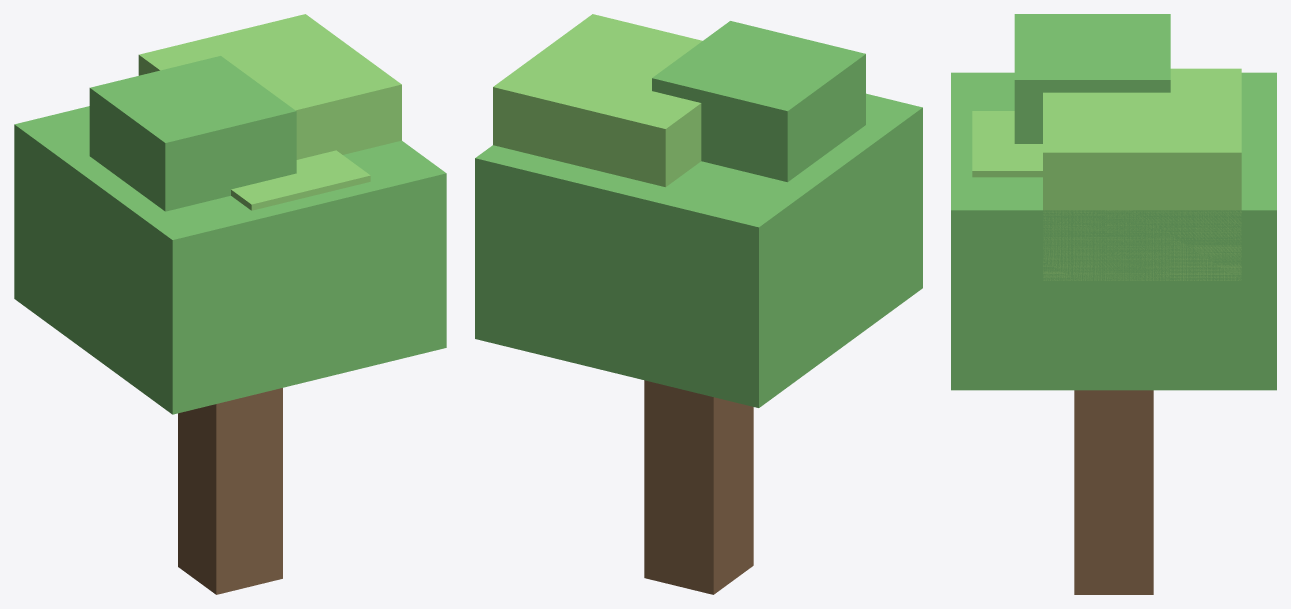
The model's file is voxel_tree.glb.
3 views of the same model, side by side, from view 1: azimuth 30°, elevation 25°; view 2: azimuth 150°, elevation 25°; view 3: azimuth 270°, elevation 25° (orthographic). The views are drawn at different scales.
Visible parts, largest first — view 1: crown_a, crown_c, trunk, crown_b, crown_d; view 2: crown_a, crown_b, crown_c, trunk; view 3: crown_a, crown_b, trunk, crown_c, crown_d.
Boxes of the visible parts, bbox=[...] form: crown_a: bbox=[14, 106, 446, 414]; crown_c: bbox=[89, 56, 296, 211]; trunk: bbox=[178, 388, 282, 594]; crown_b: bbox=[138, 14, 401, 159]; crown_d: bbox=[231, 150, 370, 210]; crown_a: bbox=[475, 93, 922, 407]; crown_b: bbox=[493, 14, 702, 187]; crown_c: bbox=[652, 21, 865, 182]; trunk: bbox=[644, 380, 753, 594]; crown_a: bbox=[951, 72, 1276, 390]; crown_b: bbox=[1043, 68, 1241, 280]; trunk: bbox=[1074, 390, 1153, 594]; crown_c: bbox=[1014, 14, 1170, 143]; crown_d: bbox=[972, 111, 1042, 177].
Size of the model in its own units: 2.3 by 3.95 by 2.3.
